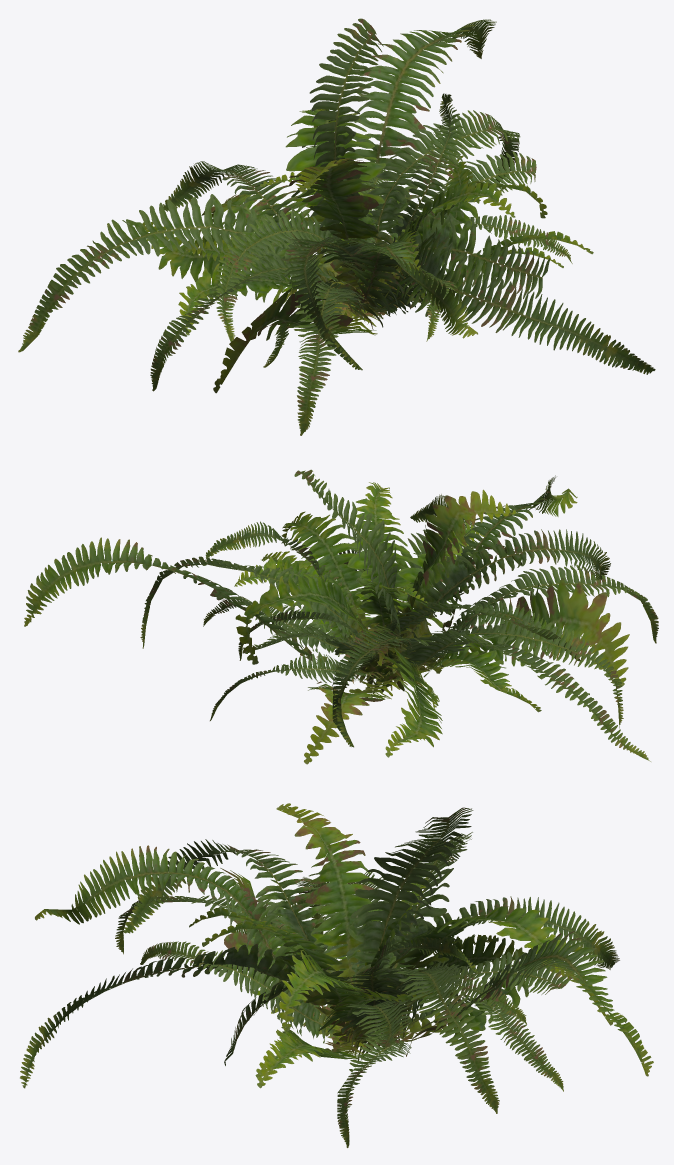
File: river-ferns.glb
3 views of the same model, one above another, from view 1: azimuth 30°, elevation 25°; view 2: azimuth 150°, elevation 25°; view 3: azimuth 270°, elevation 25° (orthographic). The views are drawn at different scales.
Visible parts, largest first — view 1: fern_02_b, fern_02_a, fern_02_d; view 2: fern_02_b, fern_02_a, fern_02_d; view 3: fern_02_b, fern_02_a, fern_02_d.
Part boxes in pixels (x1,y1,x2,y2): fern_02_b: [18, 18, 655, 435]; fern_02_a: [178, 93, 550, 341]; fern_02_d: [142, 144, 563, 367]; fern_02_b: [24, 469, 658, 764]; fern_02_a: [205, 521, 541, 720]; fern_02_d: [234, 522, 595, 757]; fern_02_b: [20, 803, 653, 1147]; fern_02_a: [140, 877, 573, 1091]; fern_02_d: [189, 872, 600, 1077].
Size of the model in its own units: 0.9897 by 0.4277 by 0.8937.
Materials: 1 (1 with a texture image).
